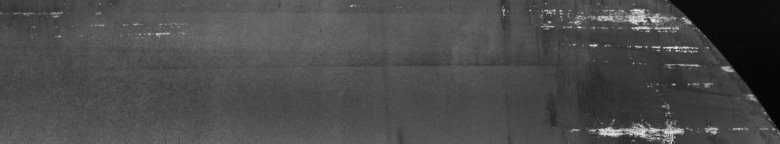kb: (424, 0, 719, 144)
